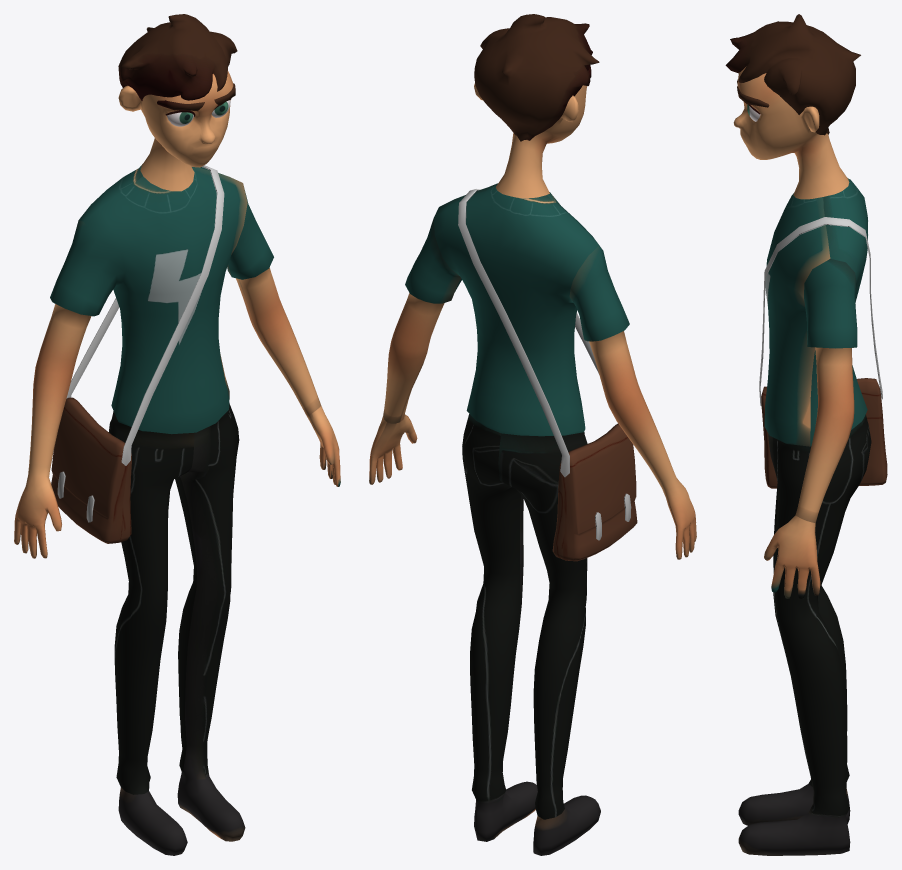
File: LeviCh_Texture.fbx
3 views of the same model, side by side, from view 1: azimuth 30°, elevation 25°; view 2: azimuth 150°, elevation 25°; view 3: azimuth 270°, elevation 25° (orthographic).
Parts seen in each view (by area): view 1: Hair_low1; view 2: Hair_low1; view 3: Hair_low1.
Boxes of the visible parts, left/top/right/bottom form: Hair_low1: left=14, top=14, right=340, bottom=855; Hair_low1: left=369, top=14, right=696, bottom=855; Hair_low1: left=725, top=14, right=887, bottom=855.
Size of the model in its own units: 72.97 by 182 by 32.75.
